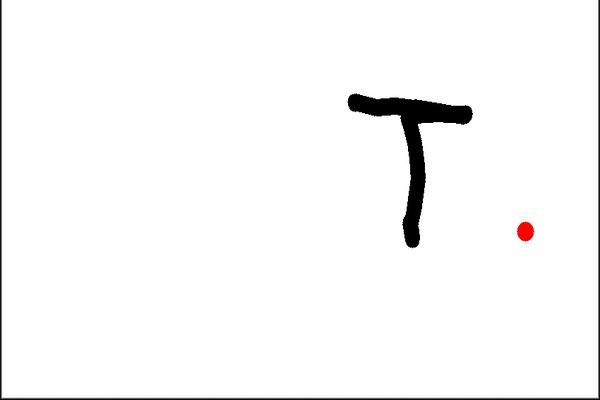T: (344, 80, 480, 249)
